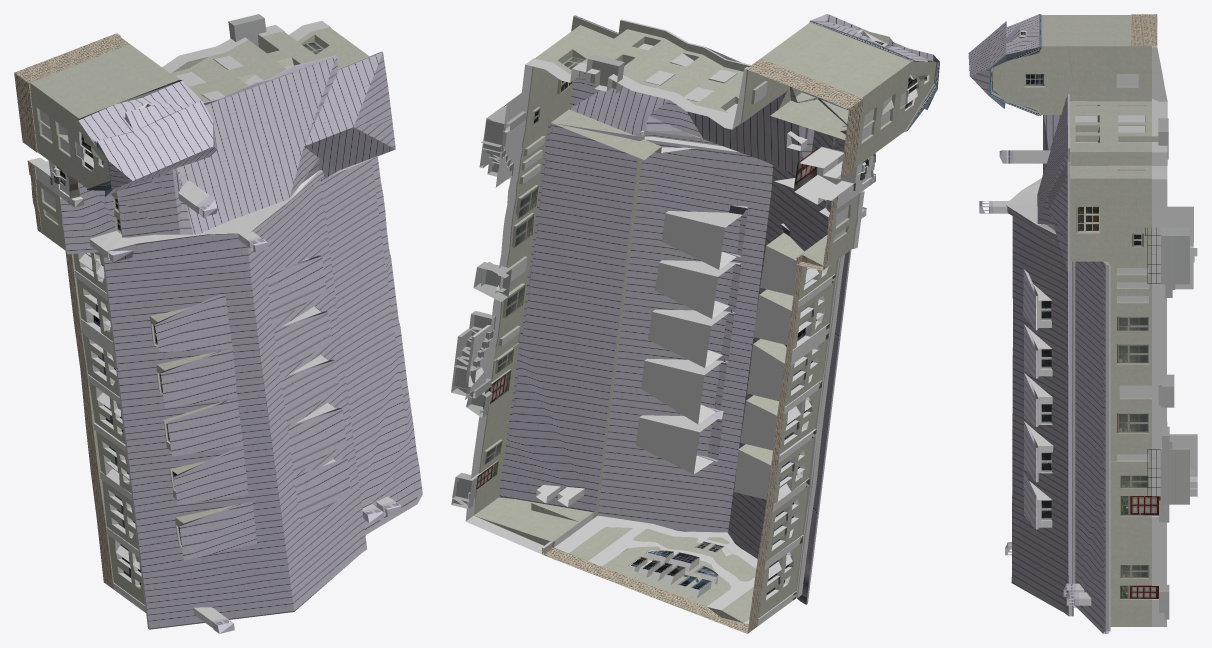
Rendered from Toompea_3-origo.obj.
The picture shows the model from 3 angles, left to right: view 1: azimuth 30°, elevation 25°; view 2: azimuth 150°, elevation 25°; view 3: azimuth 270°, elevation 25°; orthographic projection. The views are drawn at different scales.
Visible parts, largest first — view 1: polySurface57; view 2: polySurface57; view 3: polySurface57.
Part boxes in pixels (box(x1,y1,x2,y2)): polySurface57: box(14, 14, 422, 633); polySurface57: box(451, 14, 939, 633); polySurface57: box(968, 14, 1197, 633).
Size of the model in its own units: 28.25 by 39 by 15.99.
